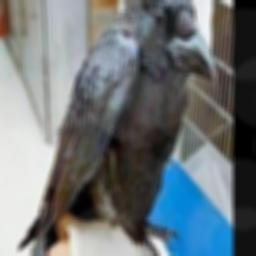Crow: (18, 0, 217, 256)
